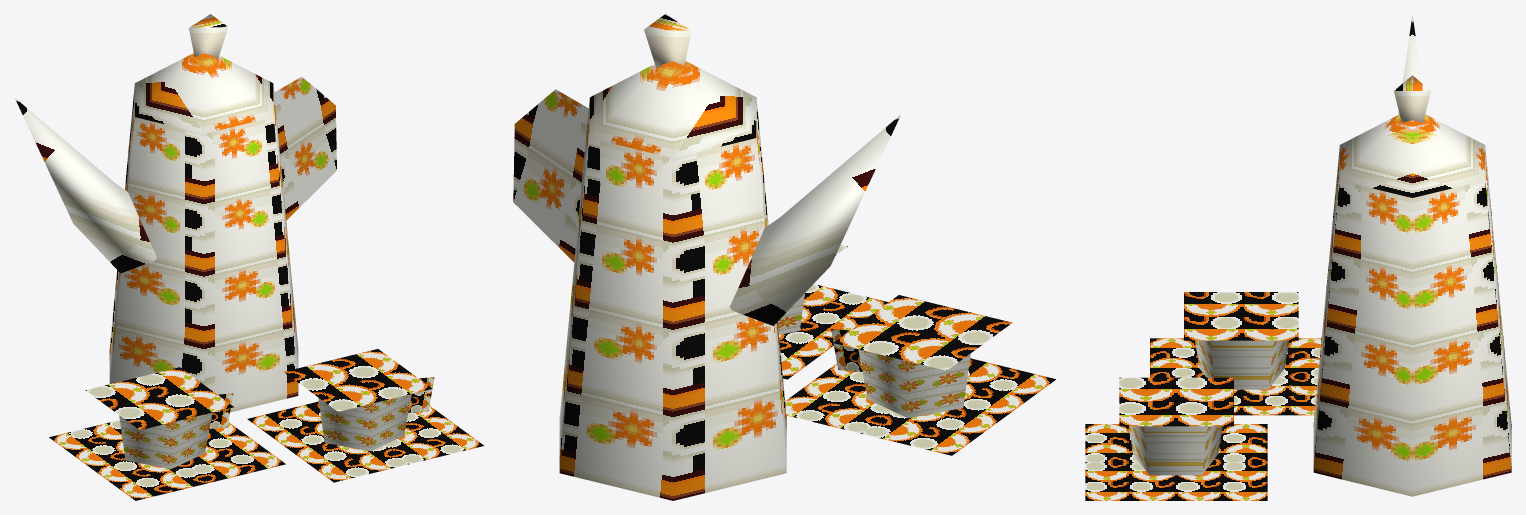
The picture shows the model from 3 angles, left to right: view 1: azimuth 30°, elevation 25°; view 2: azimuth 150°, elevation 25°; view 3: azimuth 270°, elevation 25°; orthographic projection. The views are drawn at different scales.
Parts seen in each view (by area): view 1: 3907kg3_gs09; view 2: 3907kg3_gs09; view 3: 3907kg3_gs09.
Boxes of the visible parts, x1=… form: 3907kg3_gs09: x1=15, y1=14, x2=483, y2=500; 3907kg3_gs09: x1=513, y1=14, x2=1055, y2=500; 3907kg3_gs09: x1=1085, y1=14, x2=1511, y2=500.
Size of the model in its own units: 0.7505 by 0.7654 by 0.8088.
3 materials, 3 textured.
